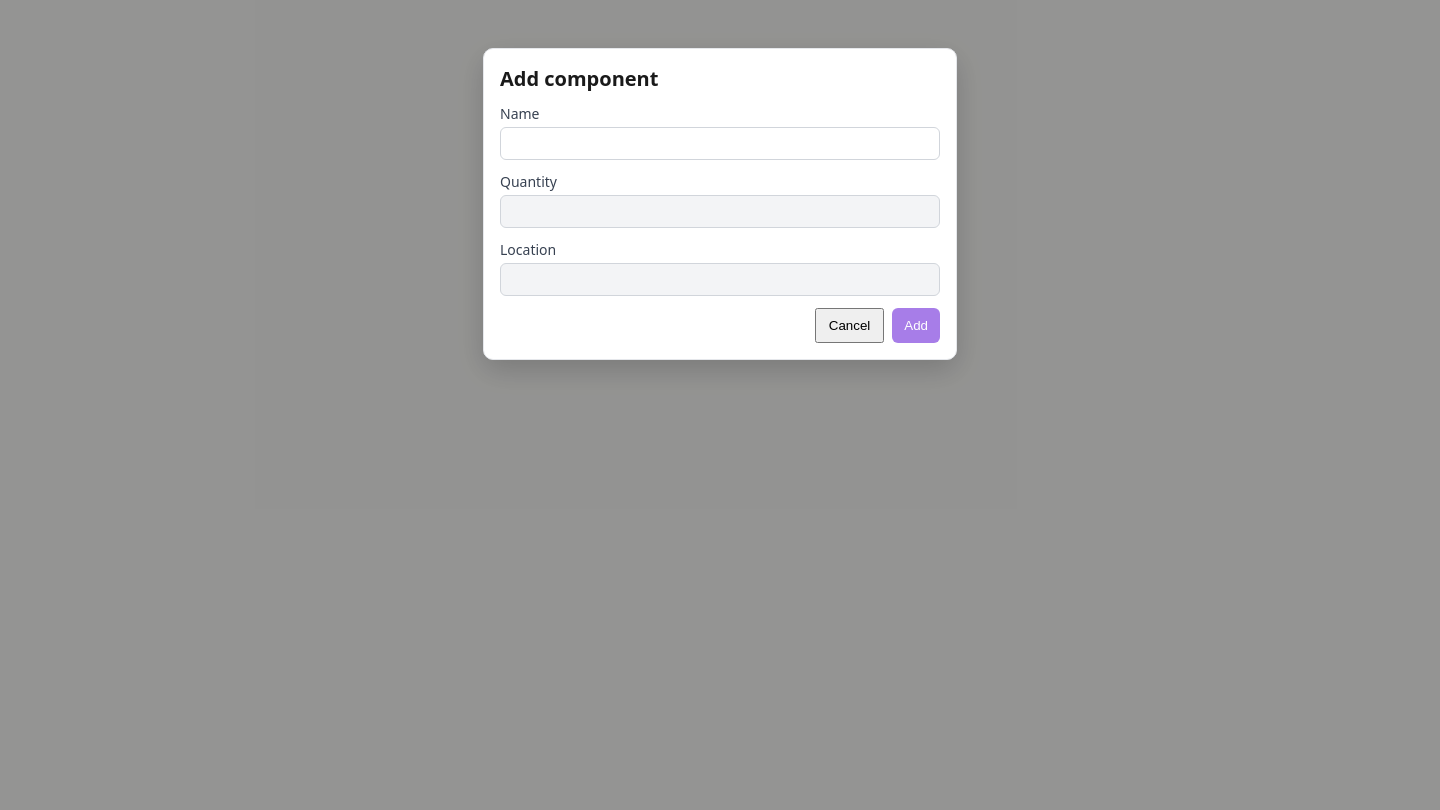
Test case: AddComponentModal › enables quantity and location once a name is entered
Type "Cap" into the field labelled "Name".
click(720, 144); type("Cap")  # box top-left (500, 127), bottom-right (940, 160)
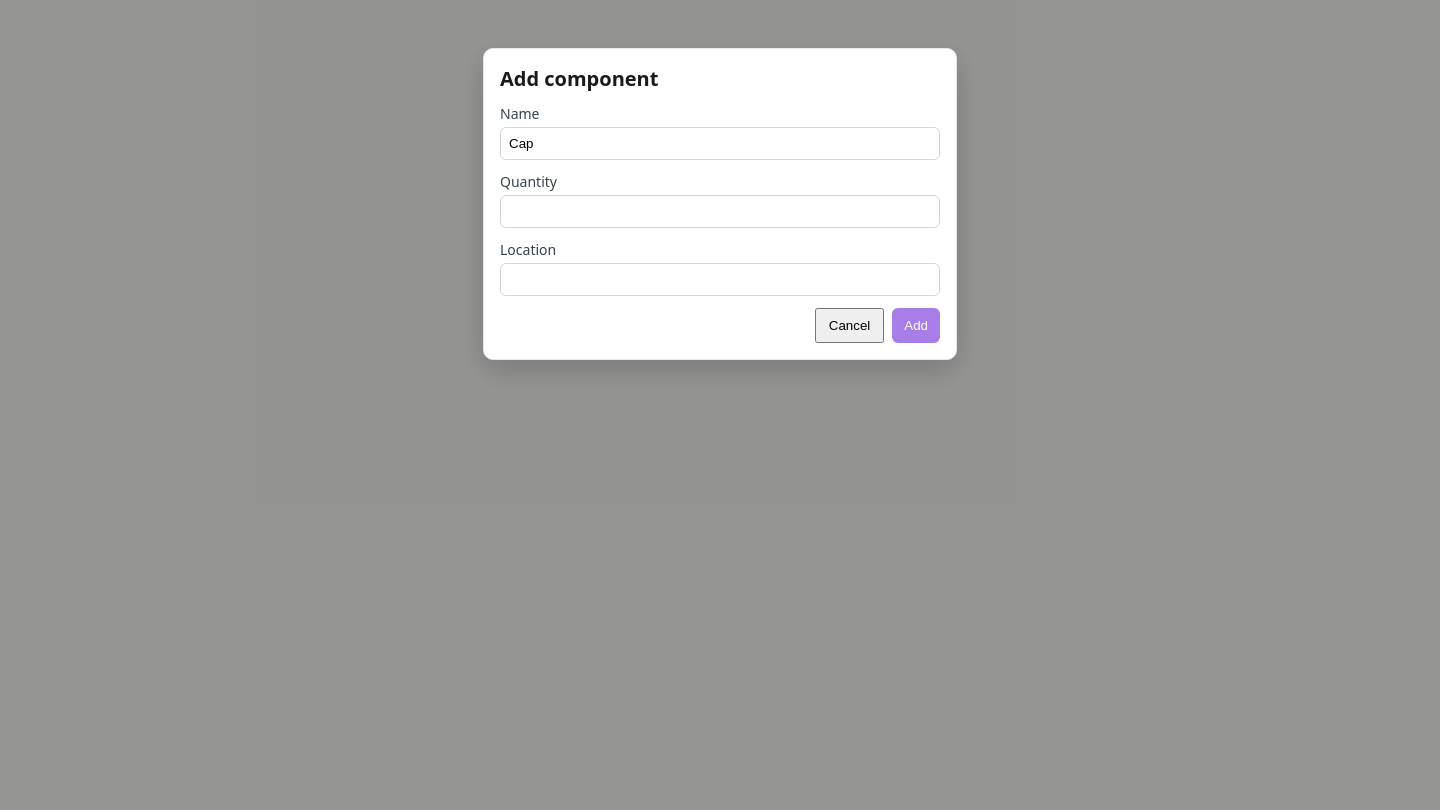
Expected: the field labelled "Location" is enabled, top-left (500, 263), bottom-right (940, 296)
Expected: the button "Add" is disabled, top-left (892, 308), bottom-right (940, 343)
Type "2" into the number field labelled "Quantity".
click(720, 212); type("2")  # box top-left (500, 195), bottom-right (940, 228)
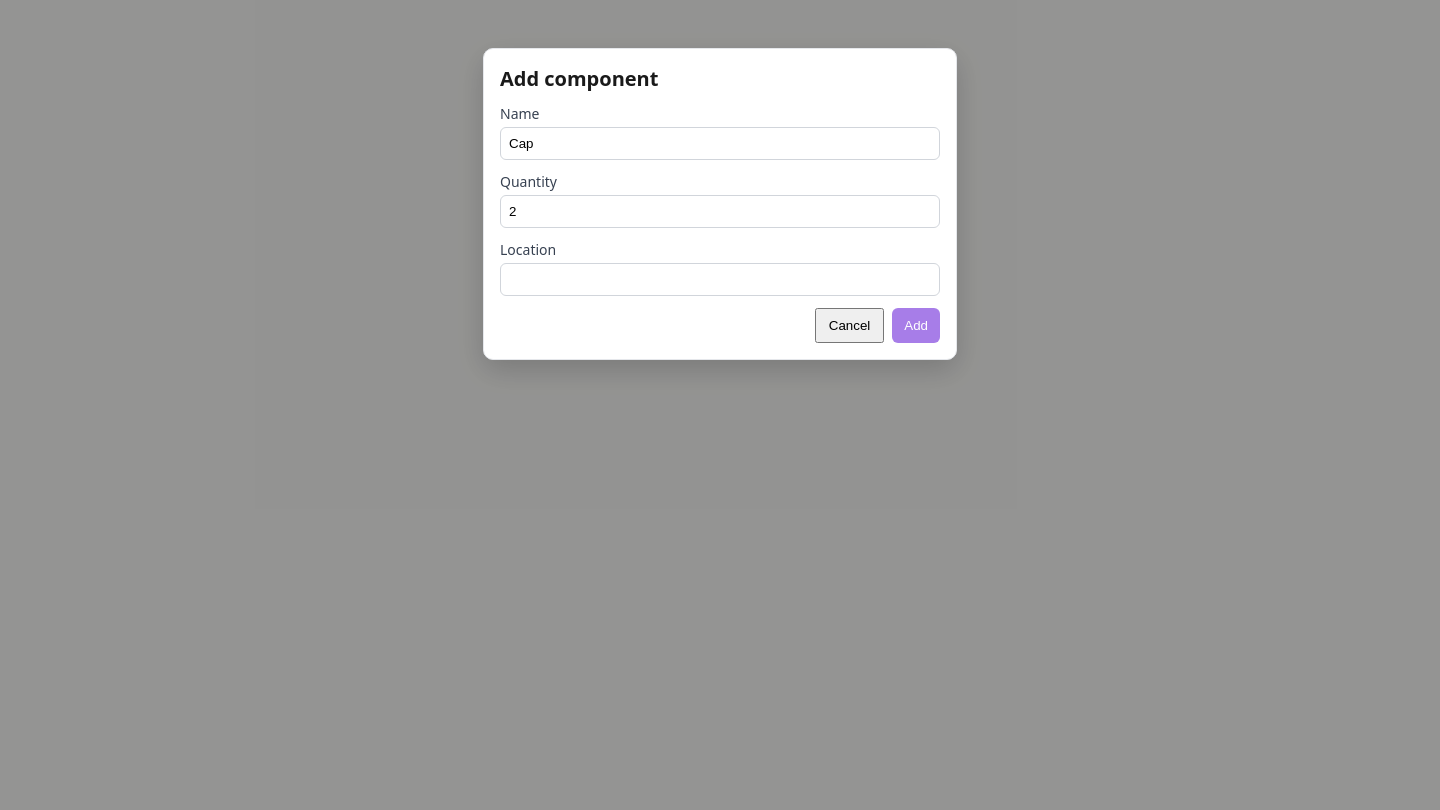
Type "Drawer B" into the field labelled "Location".
click(720, 280); type("Drawer B")  # box top-left (500, 263), bottom-right (940, 296)
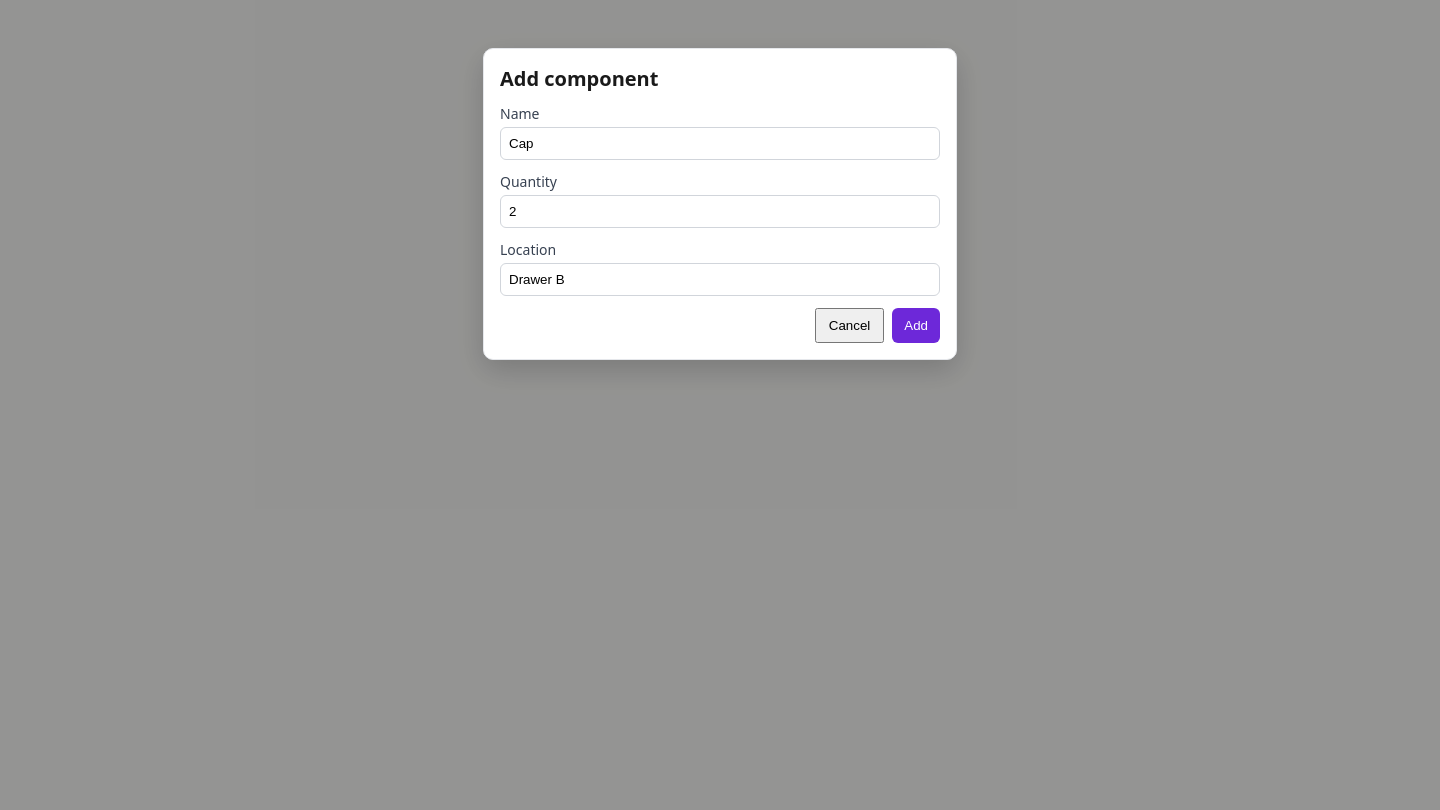
Expected: the button "Add" is enabled, top-left (892, 308), bottom-right (940, 343)
